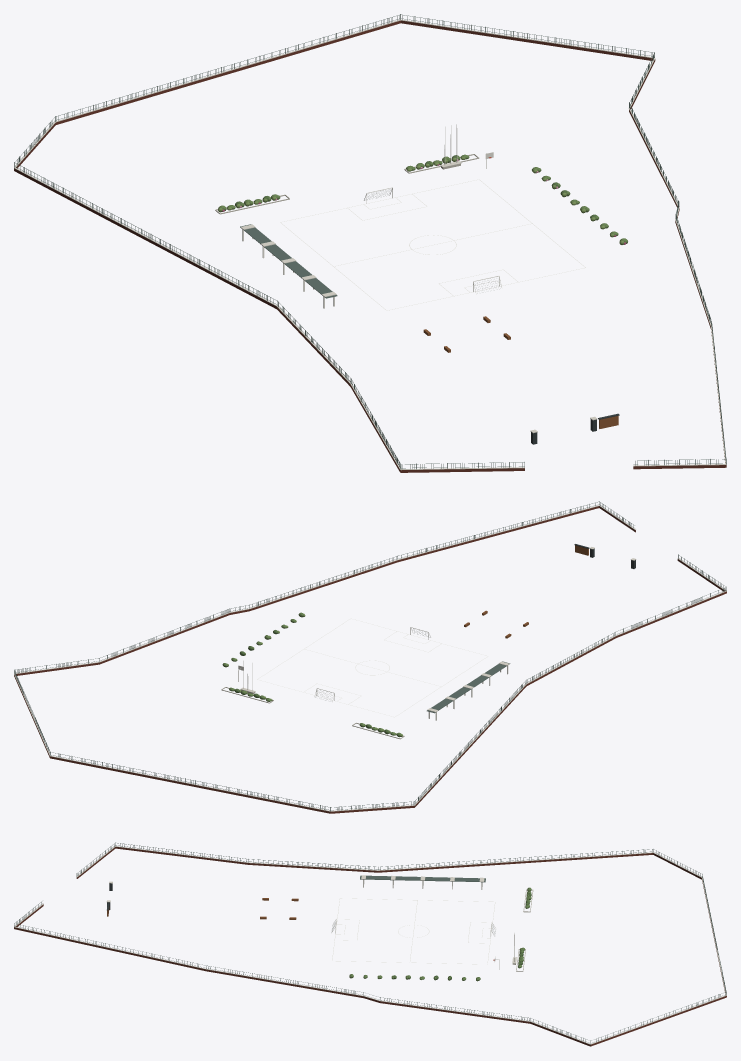
The picture shows the model from 3 angles, top to bottom: view 1: azimuth 30°, elevation 25°; view 2: azimuth 150°, elevation 25°; view 3: azimuth 270°, elevation 25°; orthographic projection. The views are drawn at different scales.
Parts seen in each view (by area): view 1: prop_boundary-fence, prop_flowerbeds, prop_cherry-walk, prop_field-lines; view 2: prop_boundary-fence, prop_cherry-walk, prop_flowerbeds; view 3: prop_boundary-fence, prop_cherry-walk, prop_flowerbeds, prop_field-lines.
Part boxes in pixels (x1,y1,x2,y2): prop_boundary-fence: [14, 14, 726, 472]; prop_flowerbeds: [215, 154, 627, 244]; prop_cherry-walk: [240, 224, 510, 352]; prop_field-lines: [280, 179, 585, 310]; prop_boundary-fence: [14, 501, 726, 813]; prop_cherry-walk: [427, 610, 528, 720]; prop_flowerbeds: [221, 612, 404, 739]; prop_boundary-fence: [14, 842, 726, 1046]; prop_cherry-walk: [260, 875, 485, 919]; prop_flowerbeds: [349, 887, 533, 981]; prop_field-lines: [332, 898, 495, 964].
Bounding box in the file's own units: 127 × 8.2 × 193.
